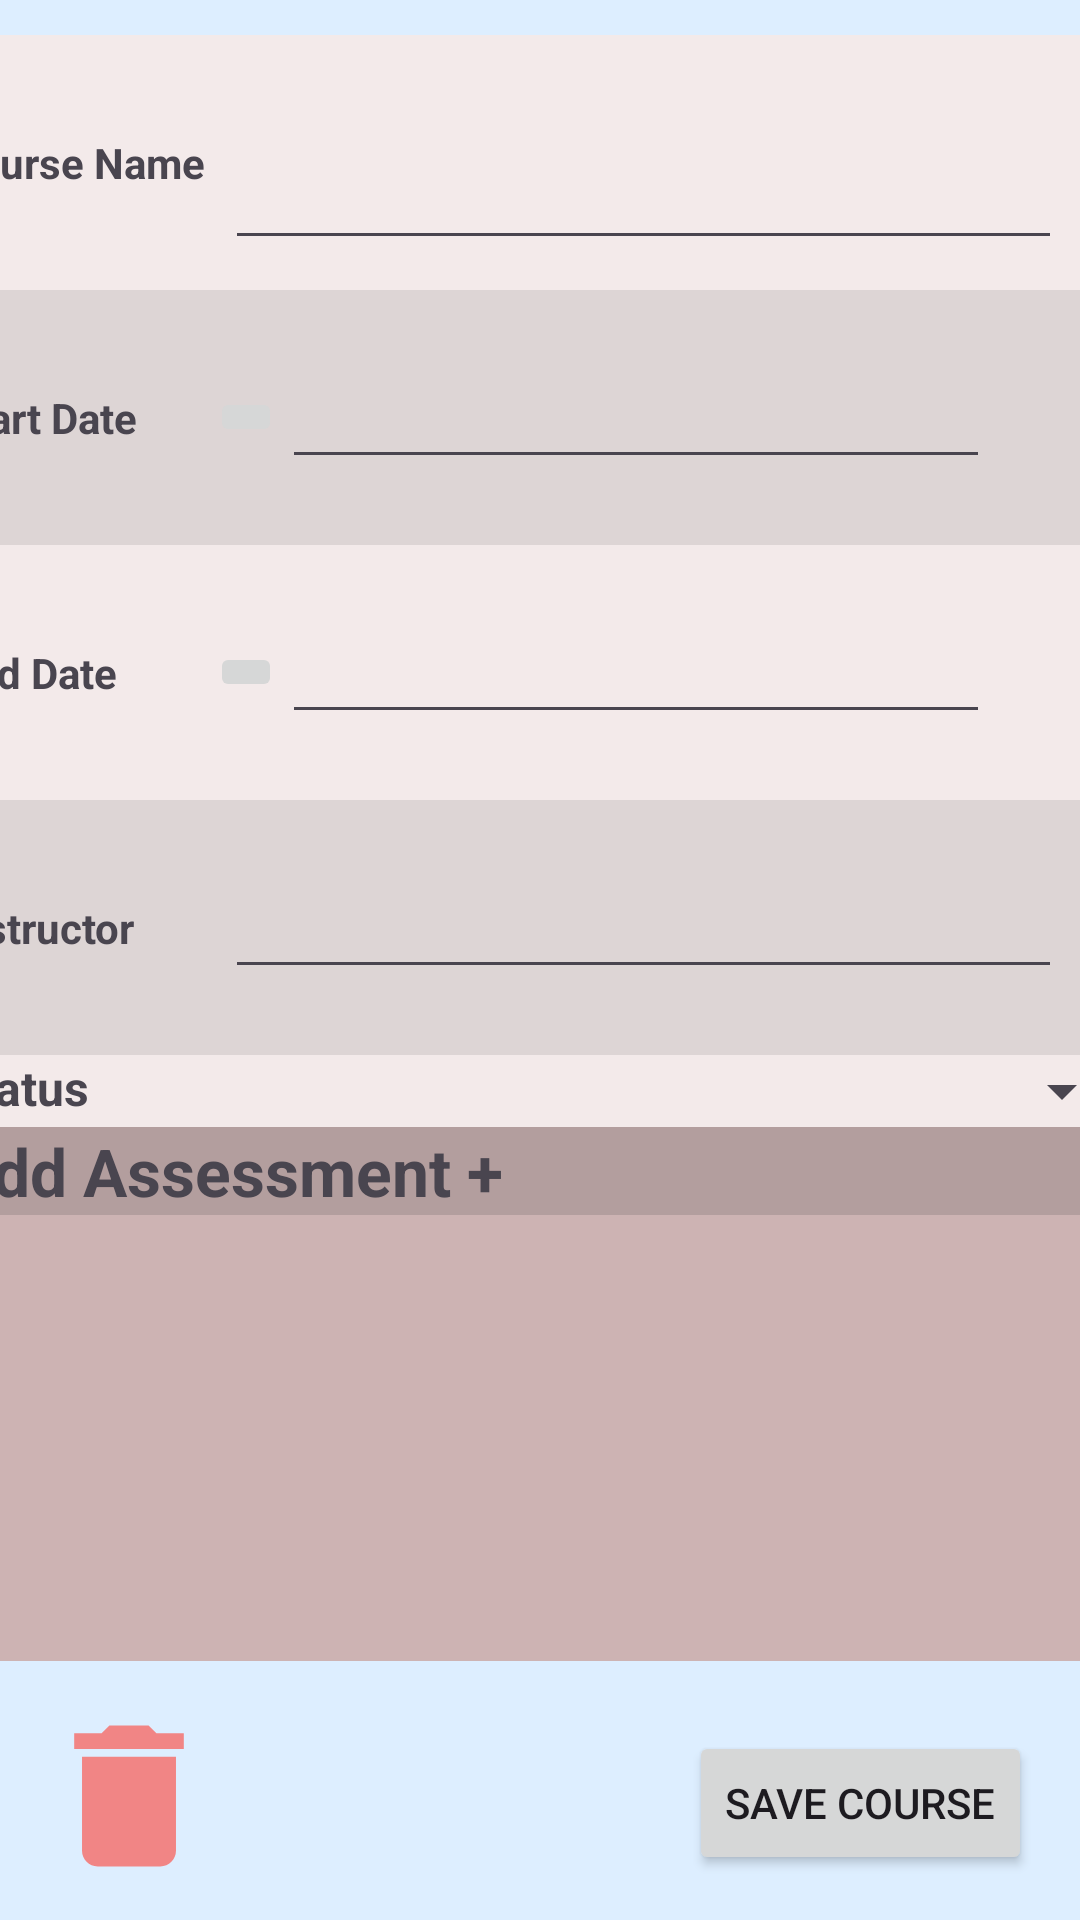

Icons on this 1080px×1920px Android screen, each with its box as (x1, y1, x2, y2):
delete: (74, 1725, 184, 1867)
